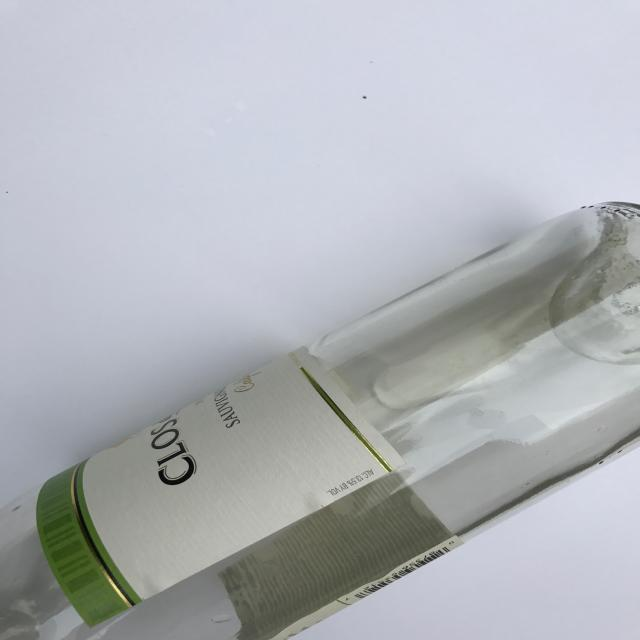glass: (2, 200, 638, 638)
